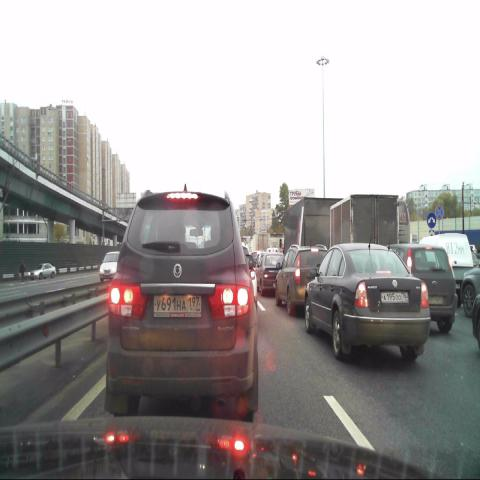3_27: (435, 203, 444, 221)
4_2_3: (426, 211, 436, 229)
